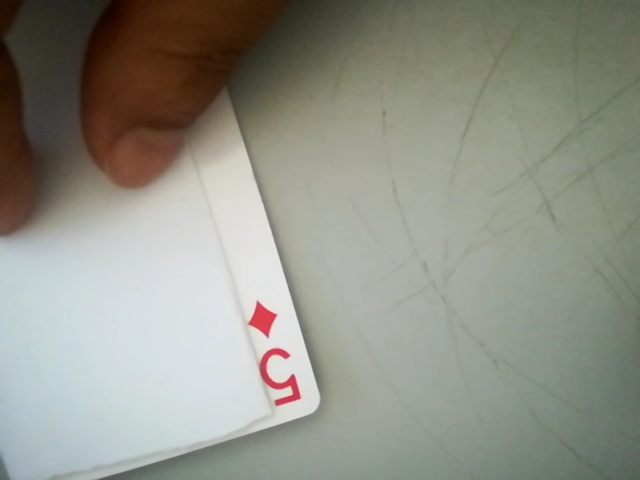fk 5: (235, 291, 317, 417)
